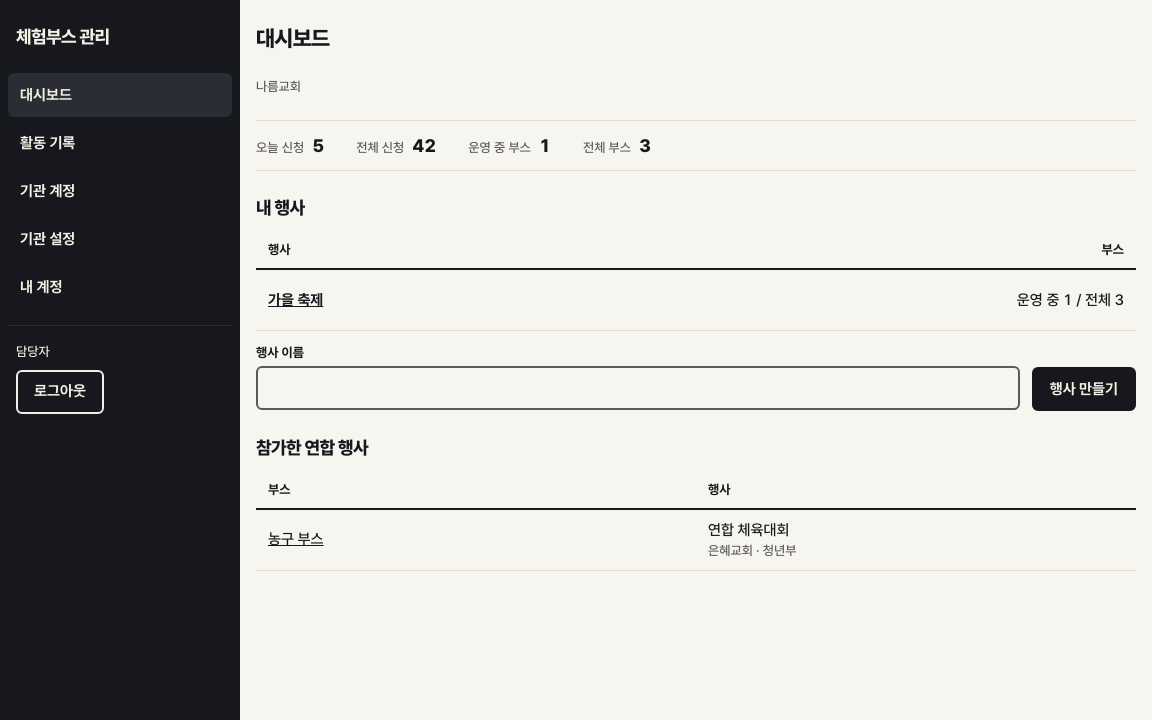
Test case: 대시보드 › 422 문구를 입력란에 보여준다
Click the button "행사 만들기": {"x": 1084, "y": 389} 1032,367 -> 1136,411
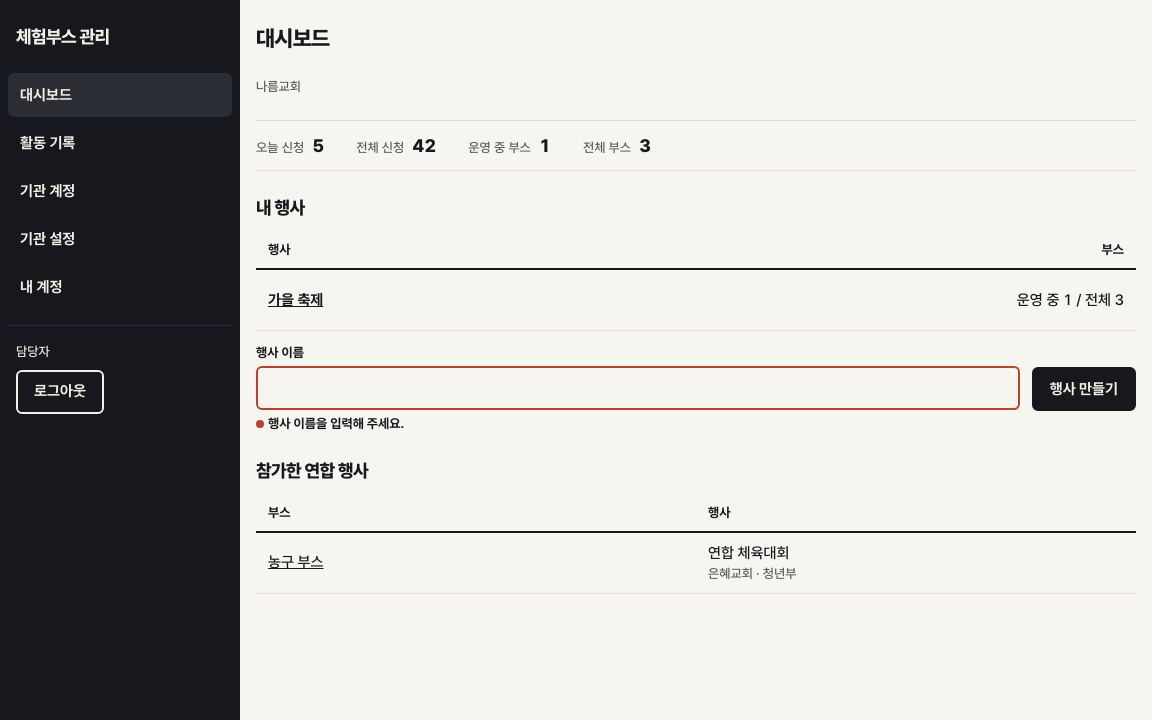
Check: the text "행사 이름을 입력해 주세요." is shown, box 256,416 -> 404,432
